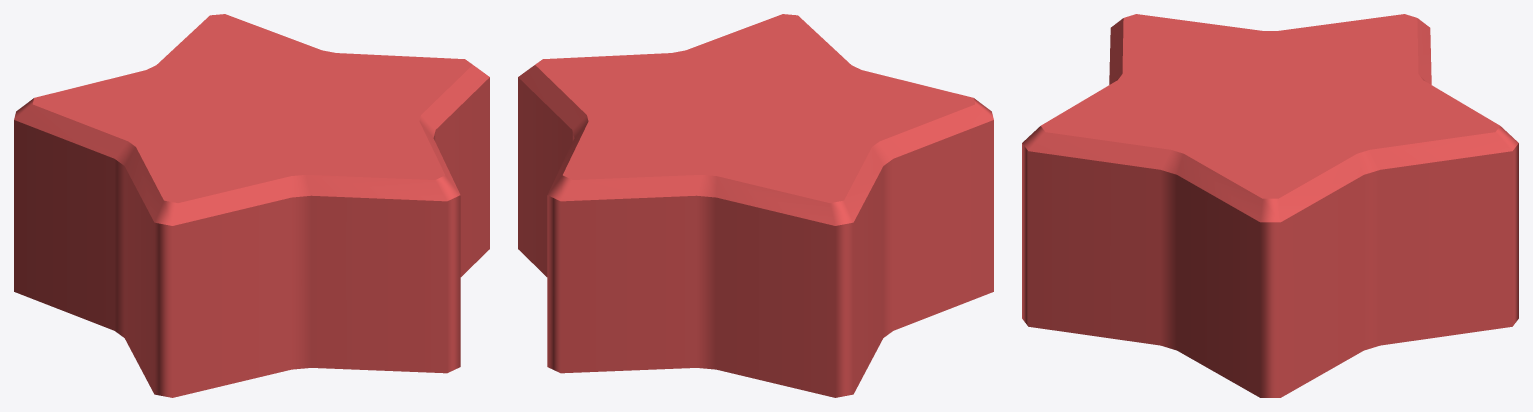
The model's file is BtnSta03.fbx.
3 views of the same model, side by side, from view 1: azimuth 30°, elevation 25°; view 2: azimuth 150°, elevation 25°; view 3: azimuth 270°, elevation 25° (orthographic). The views are drawn at different scales.
Parts seen in each view (by area): view 1: BtnSta03; view 2: BtnSta03; view 3: BtnSta03.
Boxes of the visible parts, bbox=[...] form: BtnSta03: bbox=[14, 14, 489, 397]; BtnSta03: bbox=[518, 14, 993, 397]; BtnSta03: bbox=[1022, 14, 1518, 397].
Bounding box in the file's own units: 2.17 × 0.9715 × 2.29.
